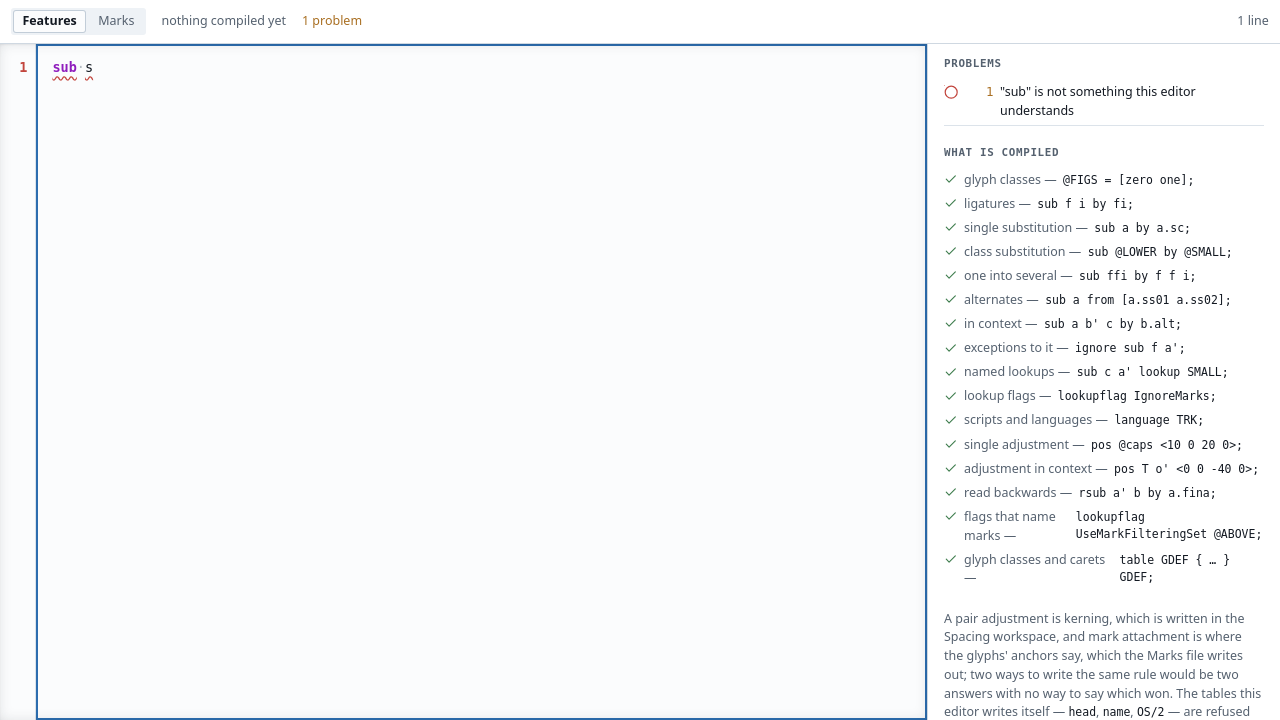
Test: completing names › offers glyph names as a word is typed, and Enter takes one
Replace the text in the text box named "Feature source" with "sub sp": (482, 382) [36,44,927,719]
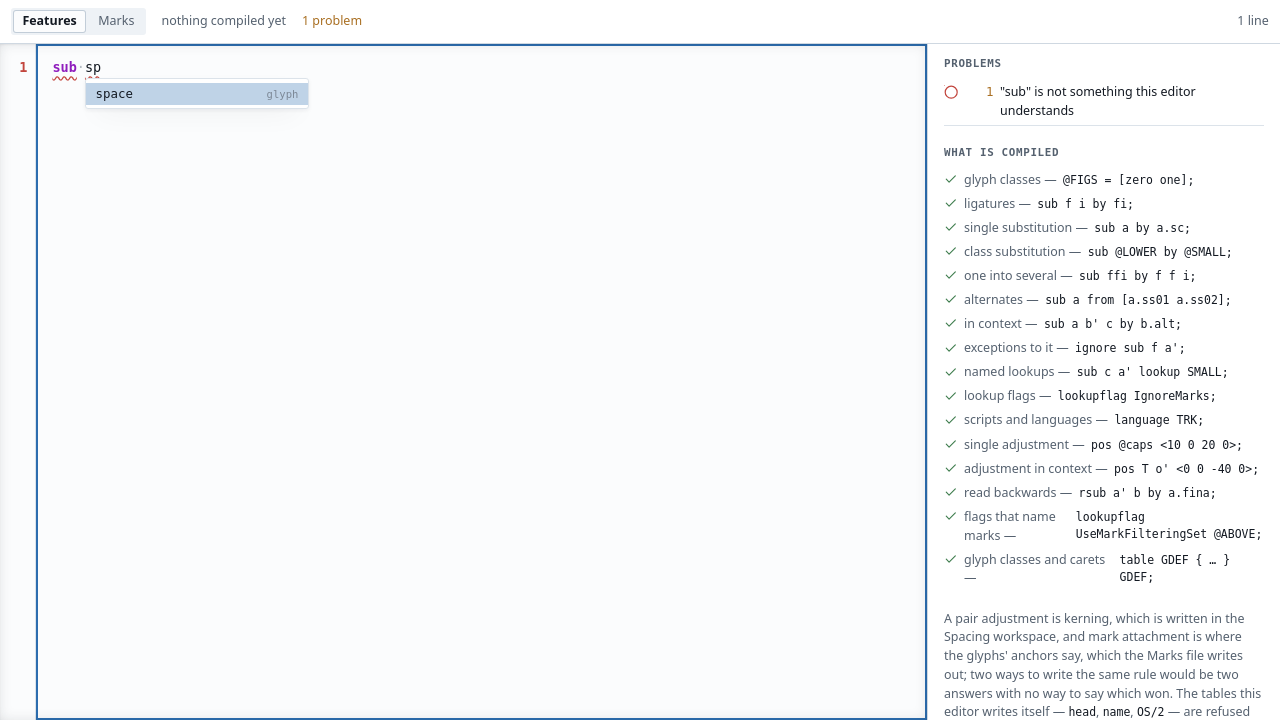
Expected: the option shows "space", [86,83,308,105]
Press Enter in the text box named "Feature source"
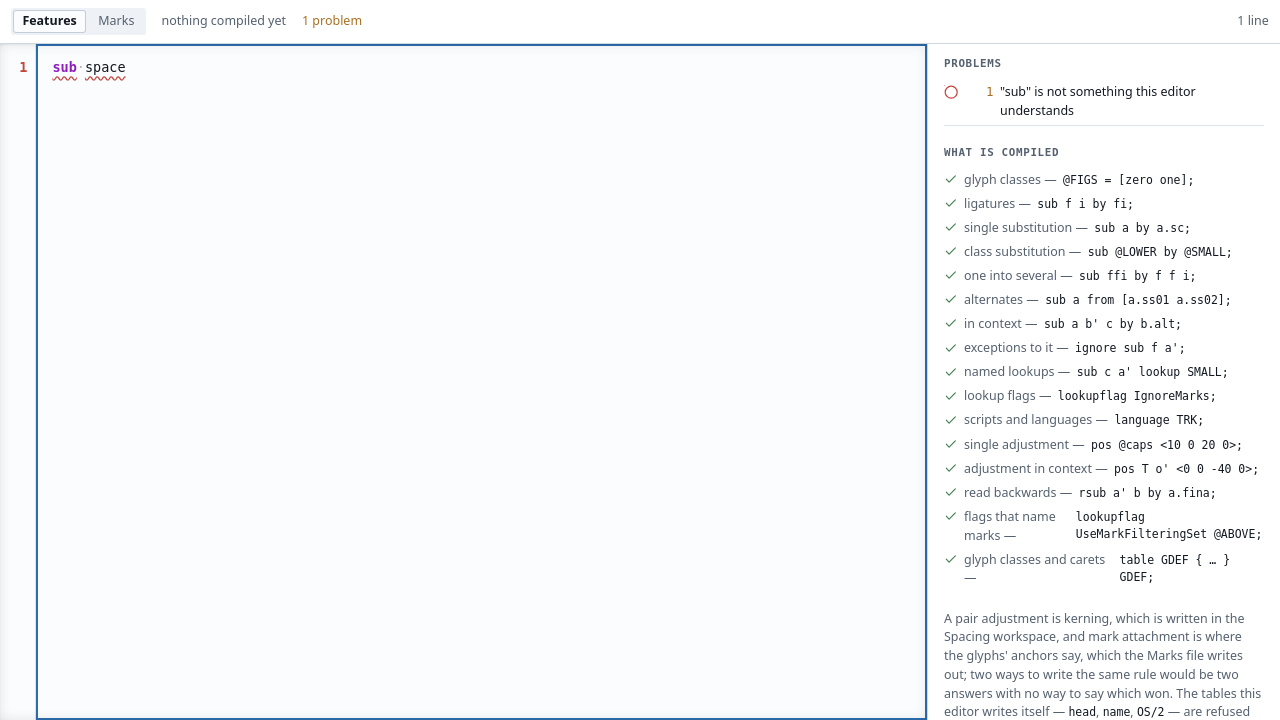
Expected: the list "space glyph" is gone
